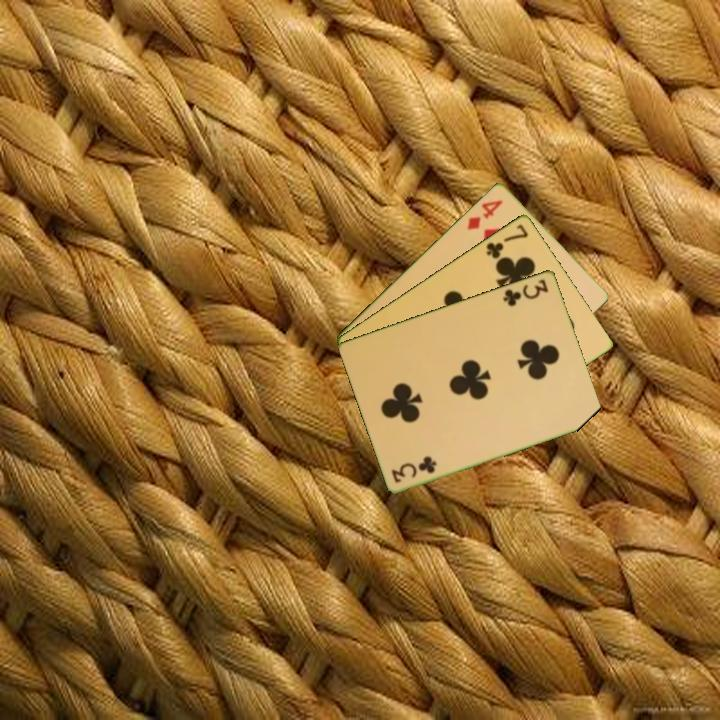3c: (499, 275, 552, 309), (388, 454, 440, 486)
4d: (463, 196, 506, 232)
7c: (482, 220, 531, 261)
